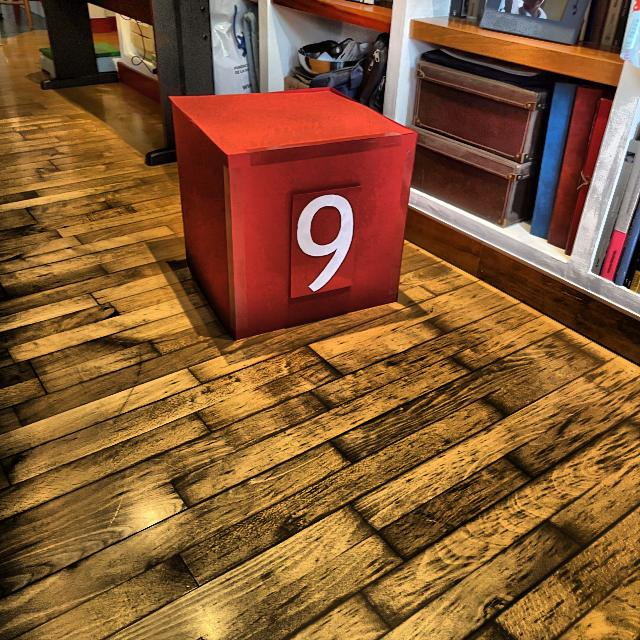nine: (298, 192, 356, 294)
red box: (170, 92, 417, 340)
